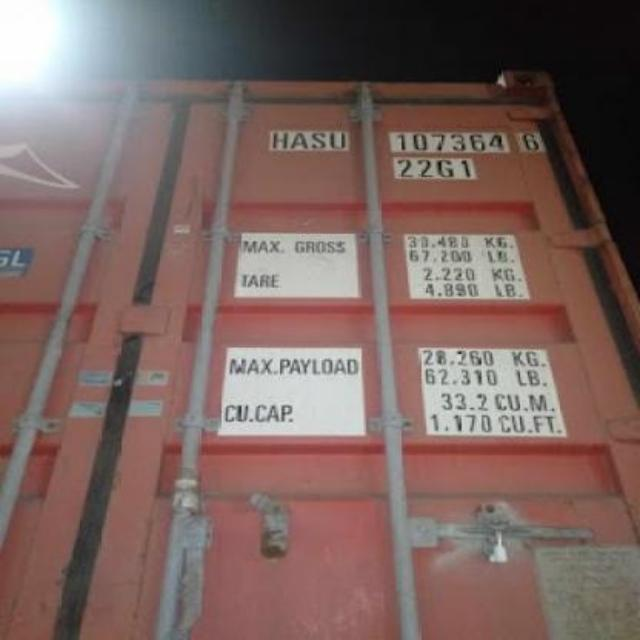0: (411, 130, 432, 154)
1: (396, 132, 409, 152)
3: (448, 134, 468, 154)
4: (488, 133, 506, 151)
6: (468, 134, 489, 154), (520, 133, 540, 151)
7: (428, 130, 446, 154)
A: (292, 130, 308, 150)
H: (272, 130, 290, 150)
S: (312, 132, 326, 152)
U: (326, 130, 350, 154)
